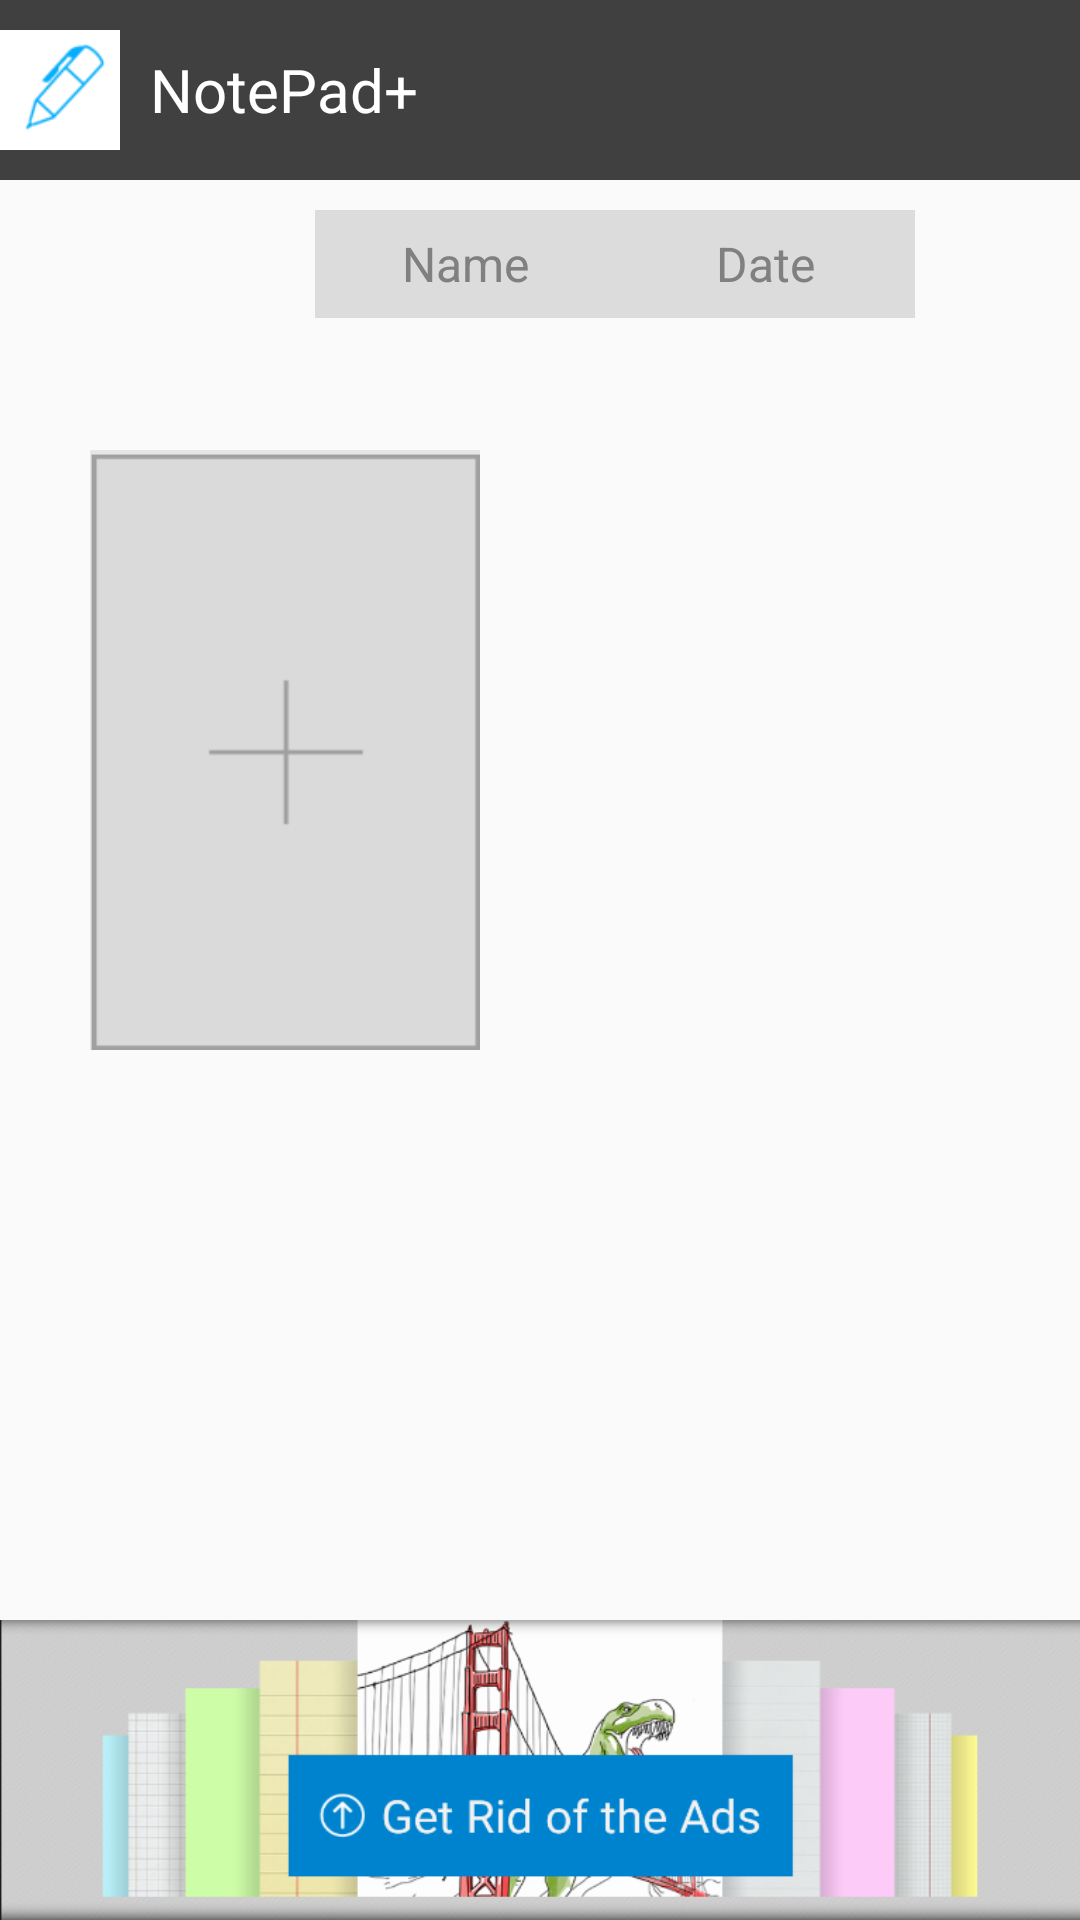

Icons on this 1080w x 1920h Android screen, each with the point to tap as (x=x, y=y):
tubiao: (x=60, y=90)
